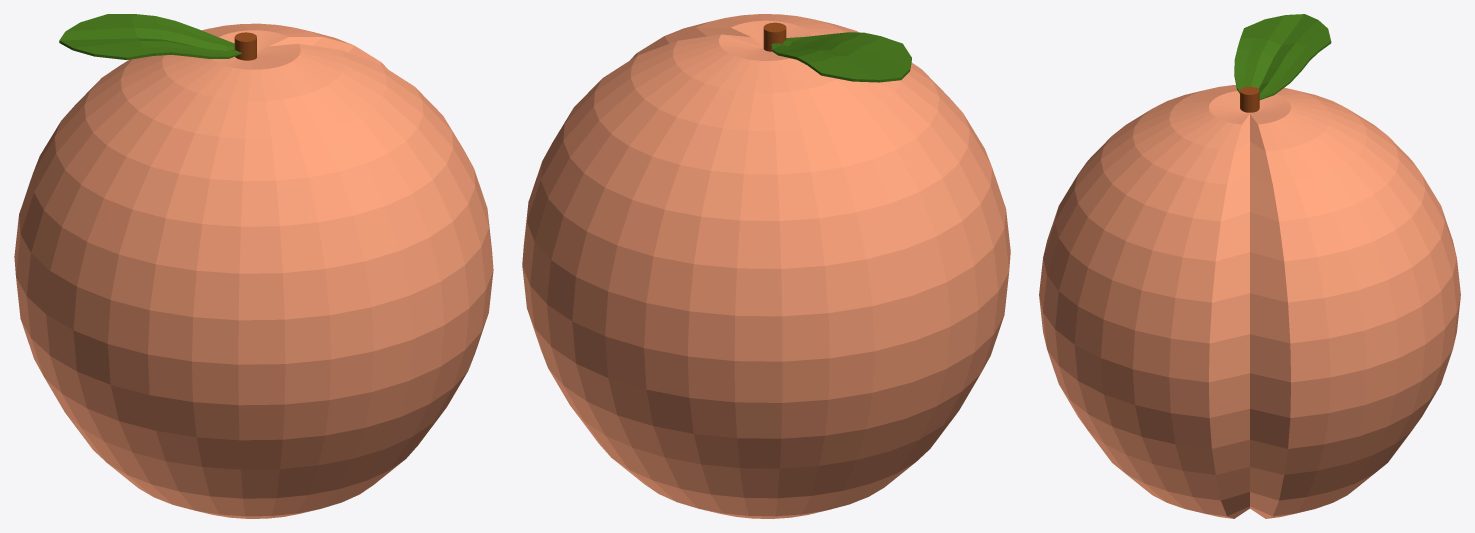
File: peachcolored.fbx
The picture shows the model from 3 angles, left to right: view 1: azimuth 30°, elevation 25°; view 2: azimuth 150°, elevation 25°; view 3: azimuth 270°, elevation 25°; orthographic projection. The views are drawn at different scales.
Parts seen in each view (by area): view 1: Sphere; view 2: Sphere; view 3: Sphere.
Part boxes in pixels (x1=…): Sphere: x1=14, y1=14, x2=493, y2=518; Sphere: x1=522, y1=14, x2=1010, y2=518; Sphere: x1=1039, y1=14, x2=1460, y2=518.
Size of the model in its own units: 198 by 216 by 200.
